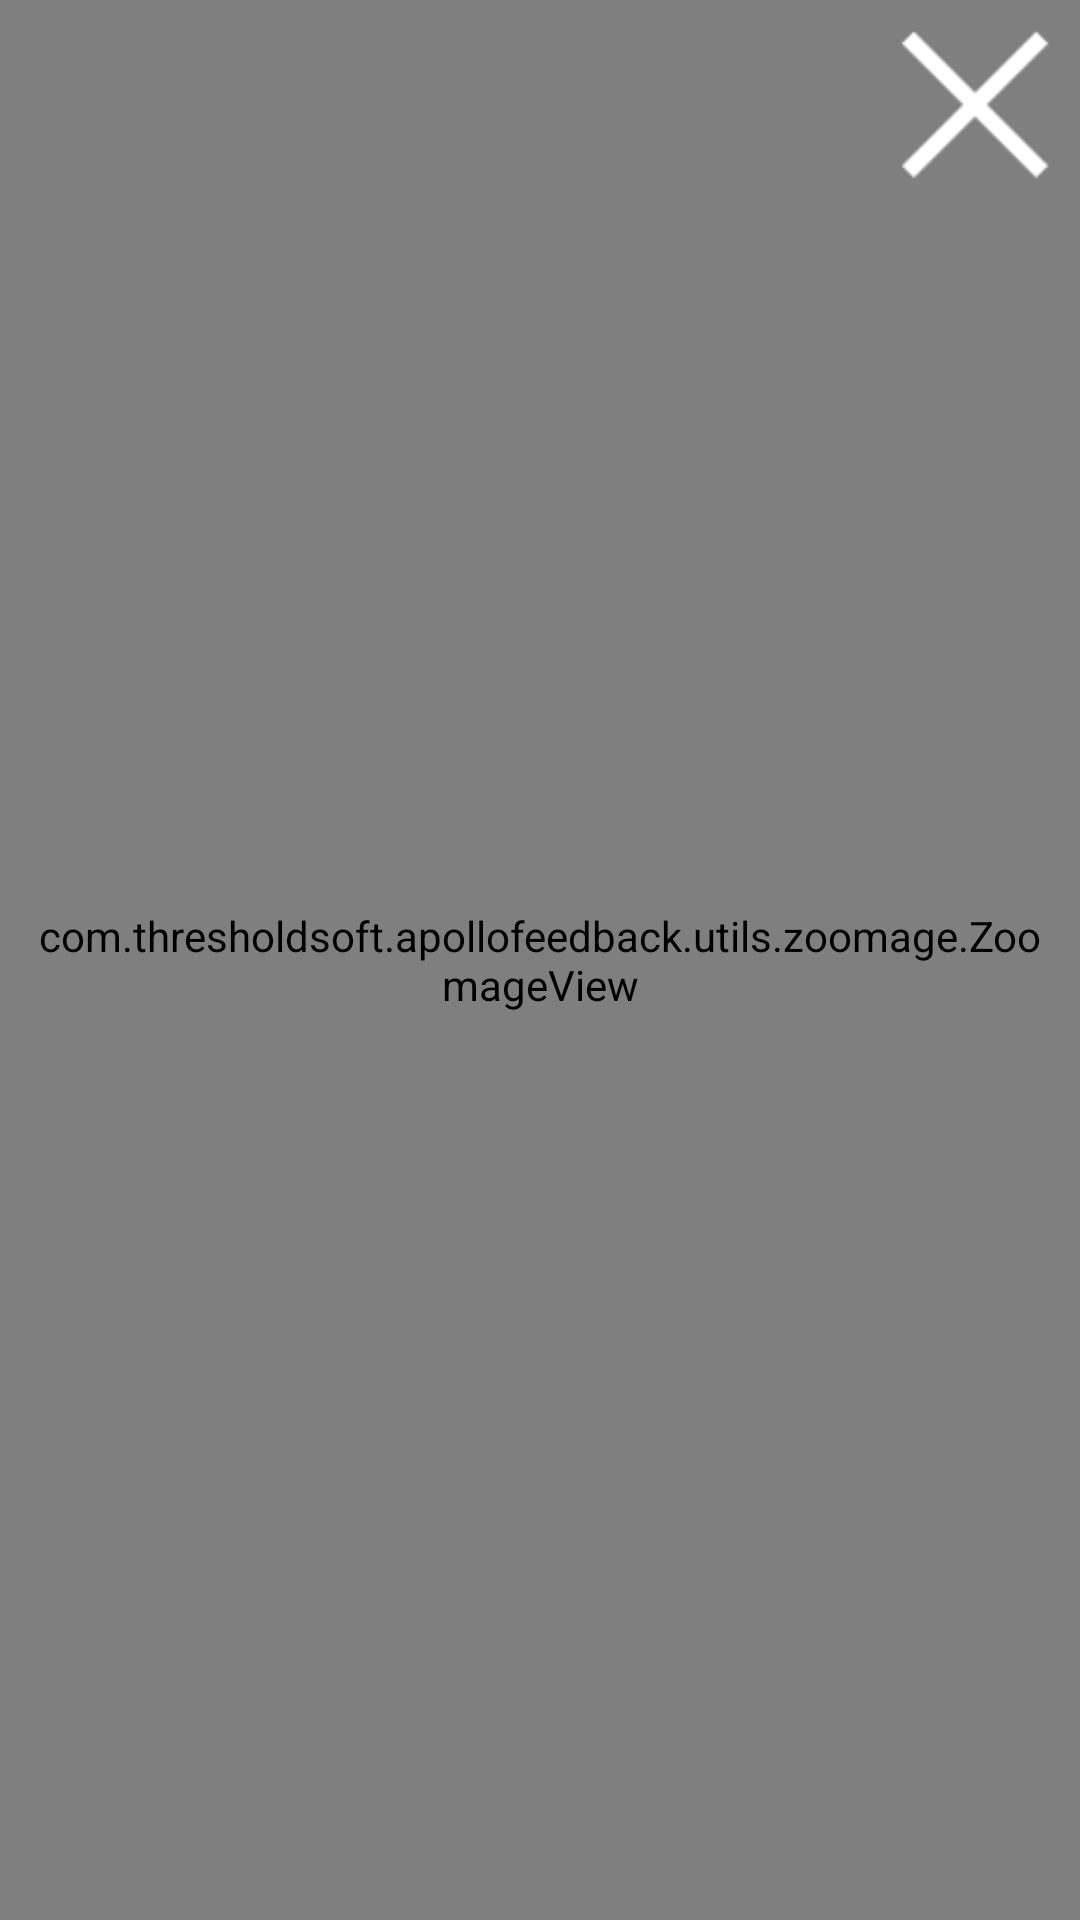

Where icons sit on this 1080 × 1920 app screen, as Rect(x1, y1, x2, y2):
close: Rect(902, 32, 1048, 178)
